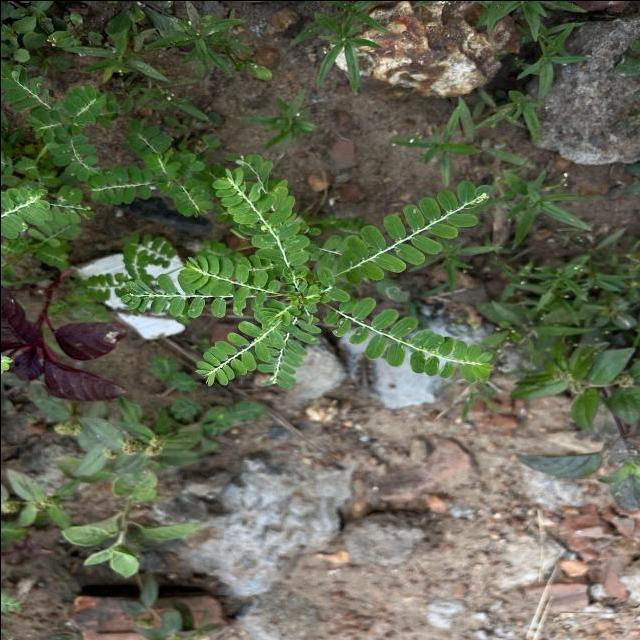Phyllanthus niruri: (330, 178, 494, 286), (321, 294, 499, 384), (209, 165, 311, 276), (191, 300, 299, 387), (181, 252, 282, 304), (115, 276, 232, 318)
